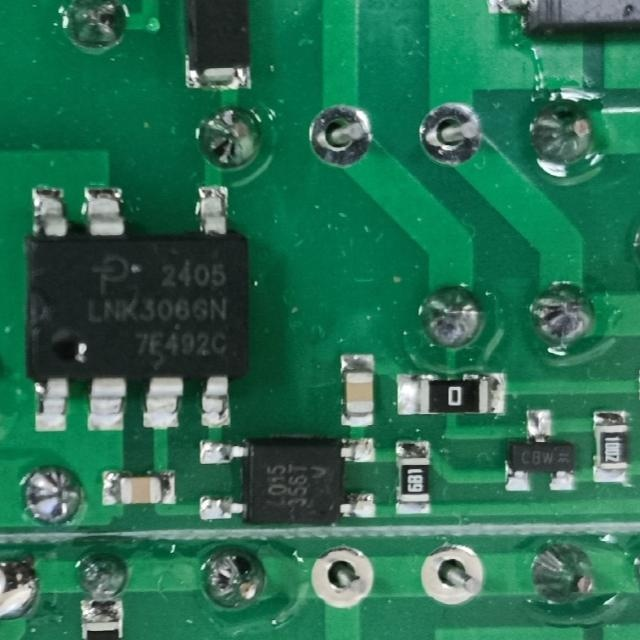chip-capacitor: (100, 468, 180, 508), (338, 352, 378, 429)
chip-resistor: (393, 369, 508, 418), (393, 439, 431, 517), (594, 410, 633, 485)
diode: (182, 0, 253, 91)
ic: (28, 184, 256, 436), (196, 436, 380, 526)
transistor: (502, 408, 578, 494)
